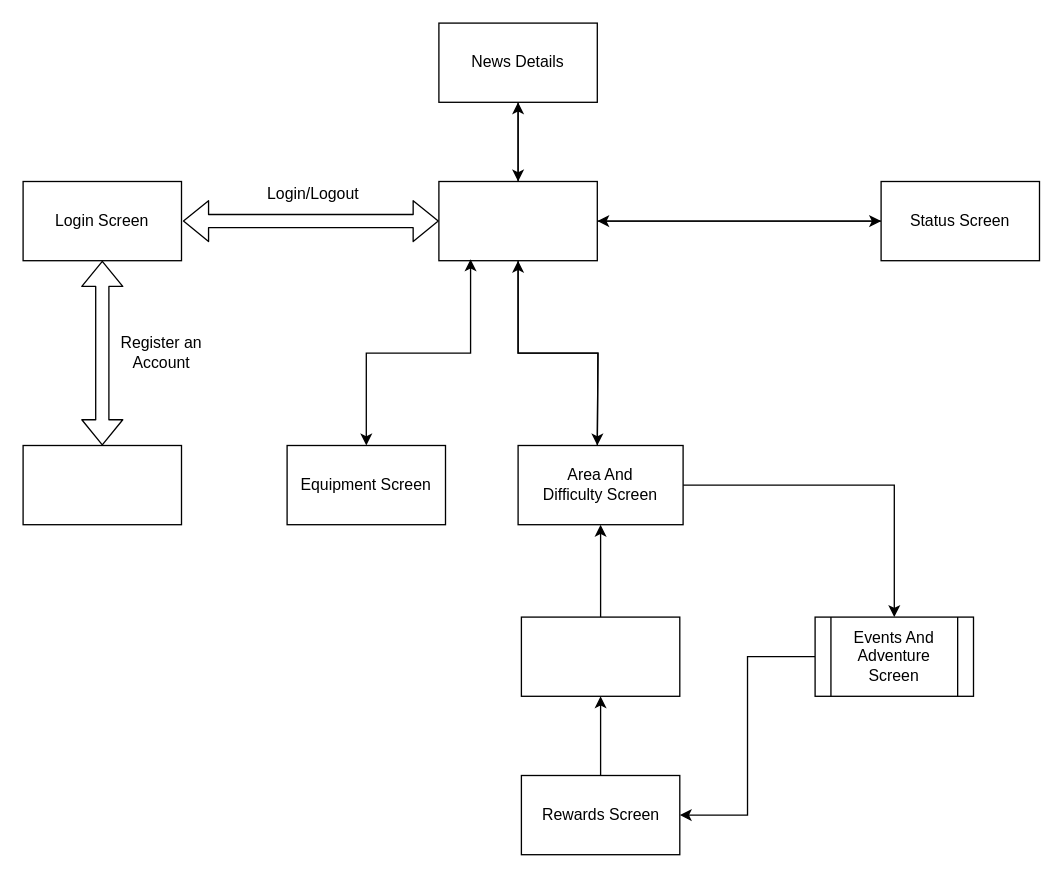
The diagram is 1063 pixels wide and 878 high, and some of its shapes have lost their labels. The centre of each missing label's shape, as x and y in pixels:
Level up Screen: point 600,656
Main Screen: point 517,220
Register Screen: point 102,484
